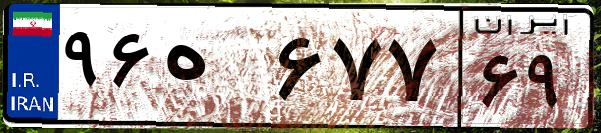6: (270, 28, 330, 110), (475, 38, 525, 113), (110, 28, 158, 98)
7: (385, 28, 445, 110), (330, 28, 385, 110)
9: (57, 26, 110, 100), (525, 38, 570, 115)
ه: (158, 20, 270, 120)
